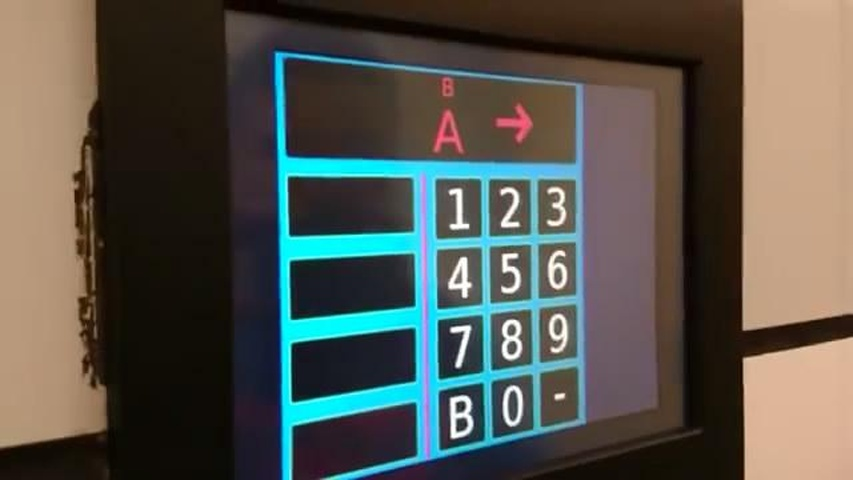-: (538, 363, 581, 428)
0: (489, 371, 536, 440)
1: (432, 174, 484, 241)
2: (486, 176, 534, 238)
3: (534, 176, 580, 236)
4: (433, 245, 484, 311)
5: (487, 242, 533, 305)
6: (536, 239, 579, 300)
7: (435, 313, 486, 381)
8: (488, 306, 534, 372)
9: (537, 302, 580, 366)
B: (436, 380, 487, 453)
led: (280, 54, 580, 167)
